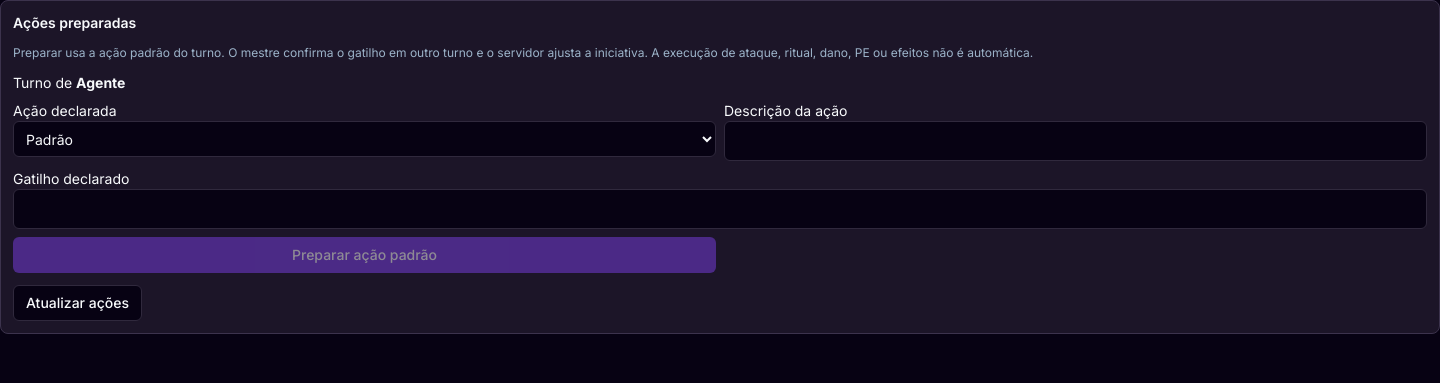
Test: ações preparadas da campanha v2 › registra preparação sem dizer que dano ou PE foram executados
The width and height of the screenshot is (1440, 383).
expect the text "Turno de Agente" is shown: met, box [13,74,125,91]
In the field labelled "Descrição da ação": (1076,141) [724,121,1427,161], type "Atacar criatura"
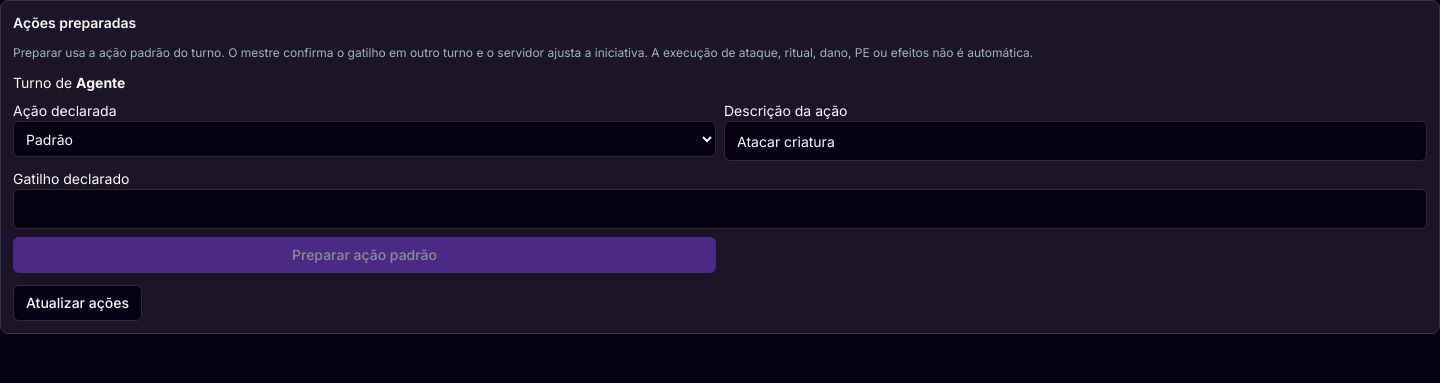
In the field labelled "Gatilho declarado": (720,209) [13,189,1427,229], type "Quando ela se aproximar"
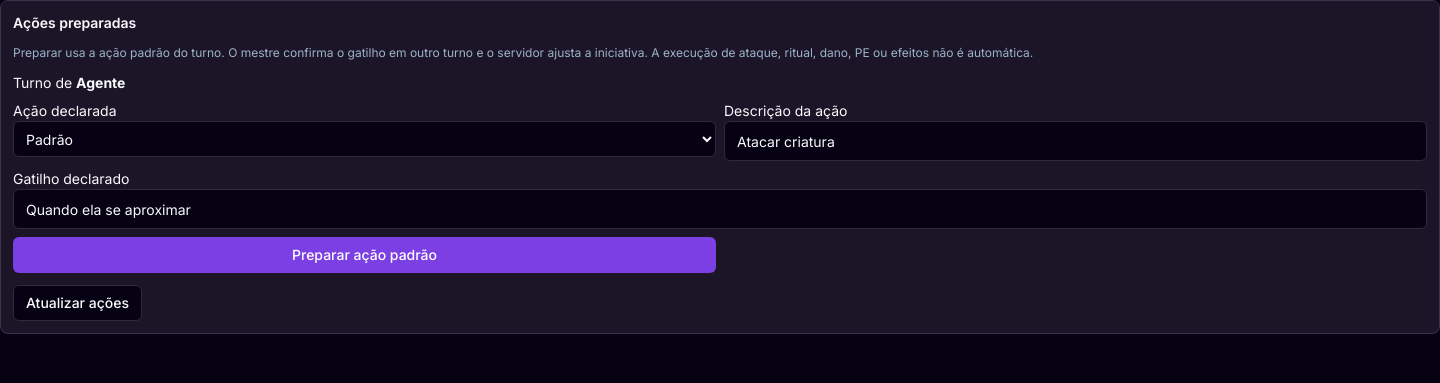
Click the button "Preparar ação padrão": (364,255) [13,237,716,273]
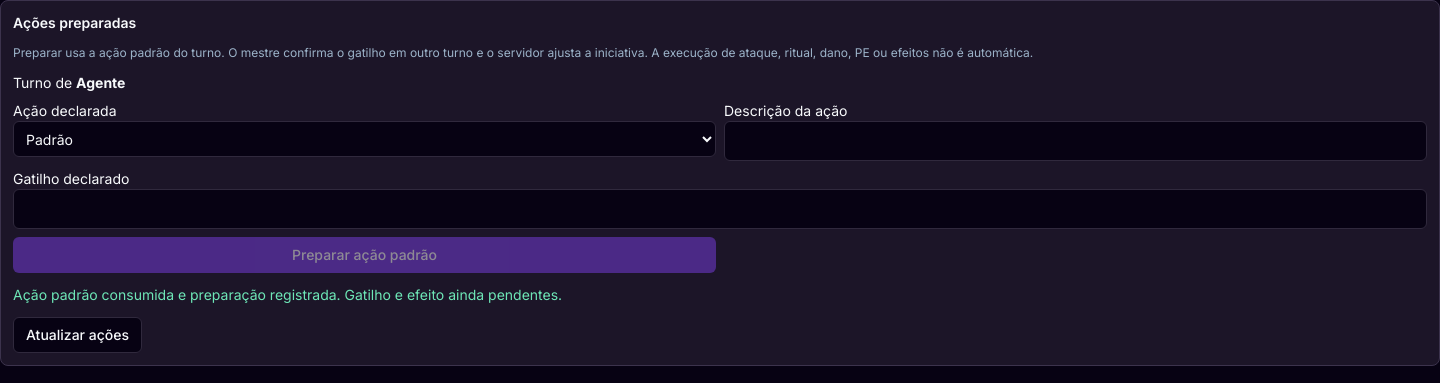
expect the message shows "Gatilho e efeito ainda pendentes": met, box [13,286,562,303]
